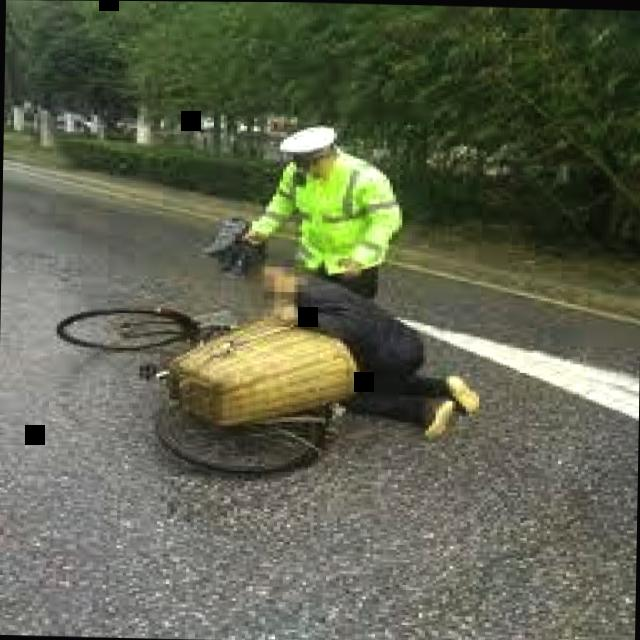Fall-Detected: (242, 260, 484, 444)
